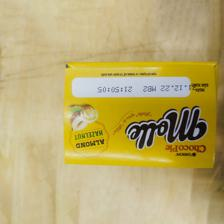Molle: (55, 58, 224, 170)
